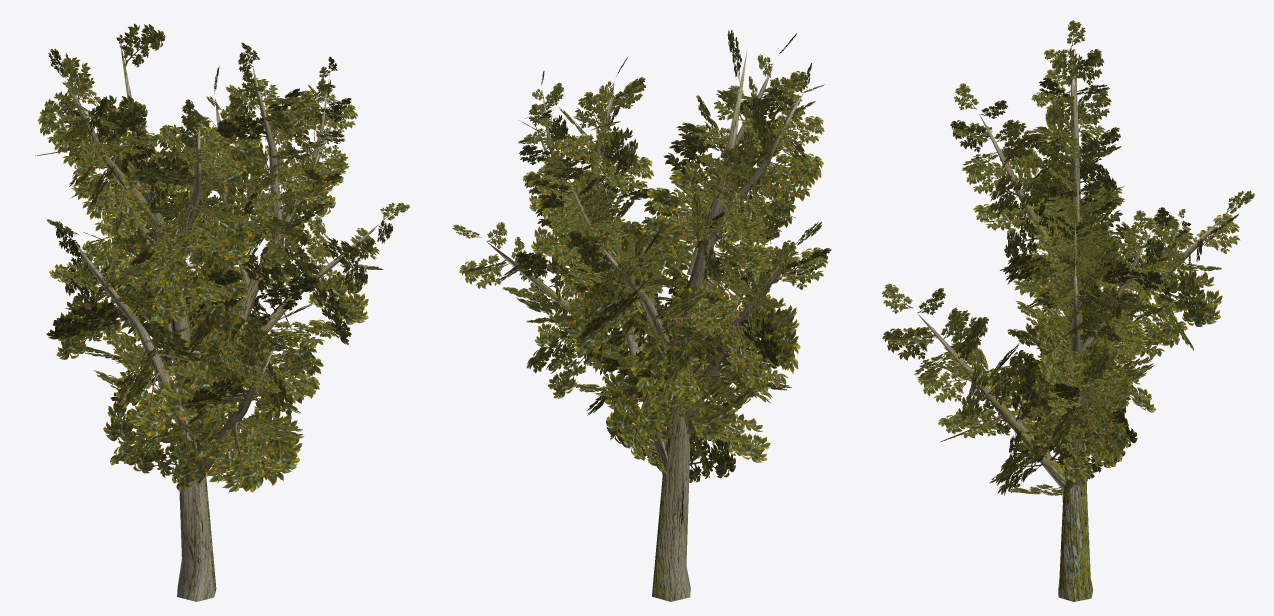
File: Tree2Lod2.fbx
The picture shows the model from 3 angles, left to right: view 1: azimuth 30°, elevation 25°; view 2: azimuth 150°, elevation 25°; view 3: azimuth 270°, elevation 25°; orthographic projection. The views are drawn at different scales.
Parts seen in each view (by area): view 1: Tree2Lod2; view 2: Tree2Lod2; view 3: Tree2Lod2.
Boxes of the visible parts, x1=… form: Tree2Lod2: x1=35, y1=23, x2=409, y2=601; Tree2Lod2: x1=452, y1=30, x2=831, y2=601; Tree2Lod2: x1=882, y1=20, x2=1254, y2=601.
Size of the model in its own units: 973 by 1416 by 939.
